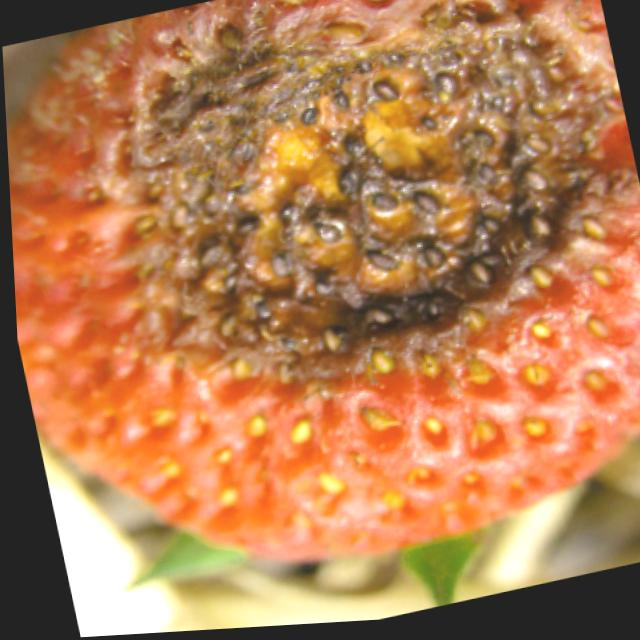Anthracnose Fruit Rot: (109, 0, 636, 424)
